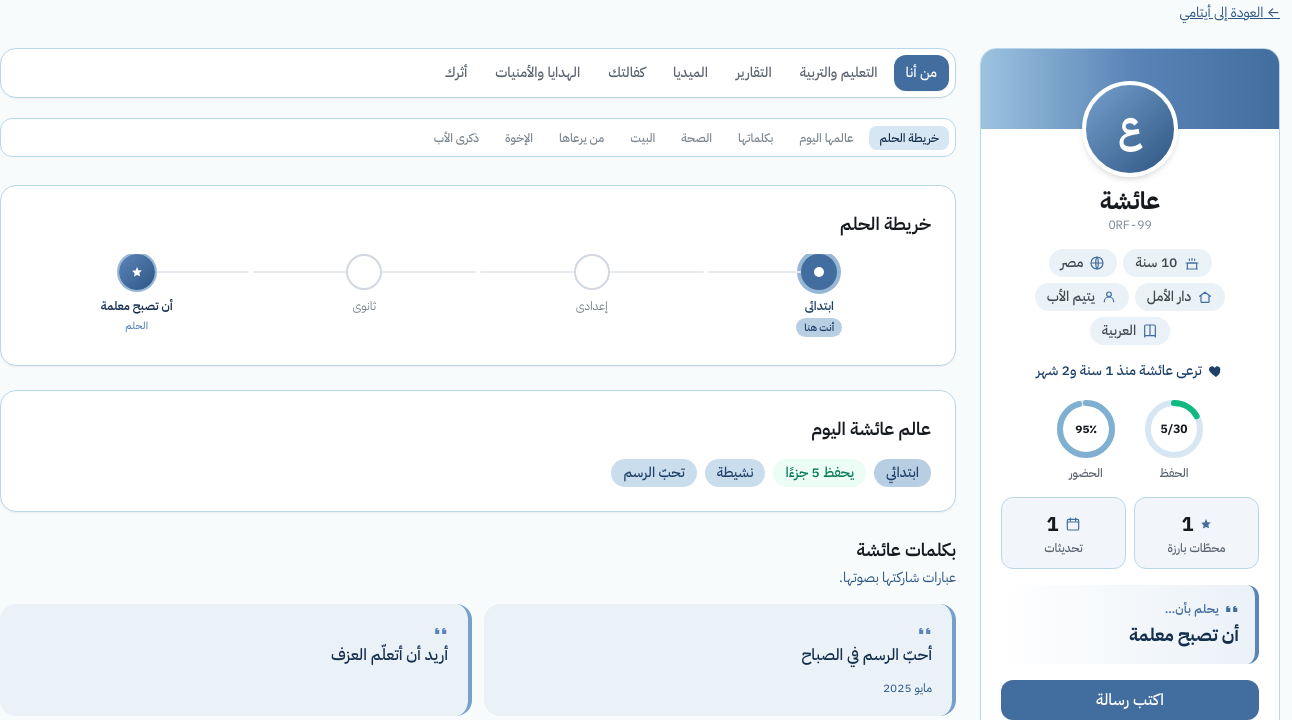
it: DonorOrphanDetailPage — v4 app-shell (tabs + rail) › switches tabs on click and mirrors the tab in the URL
Click the tab "الميديا".
click(690, 73)  # box [661,55,720,91]
(page scrolled)
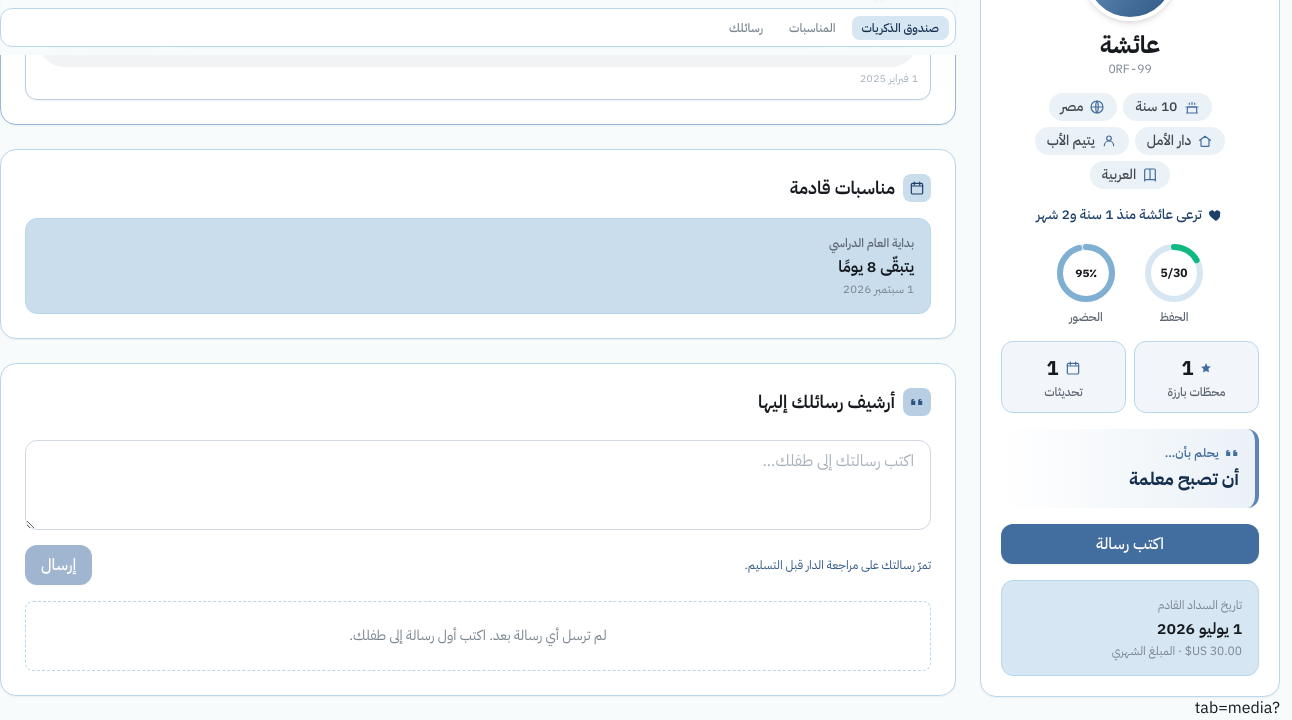
Result: the text with test id "location-search" shows "tab=media" at [1195,696,1280,719]
Result: the element "أرشيف رسائلك إليها" is shown at [0,363,956,696]
Result: the heading "عالم عائشة اليوم" is gone
